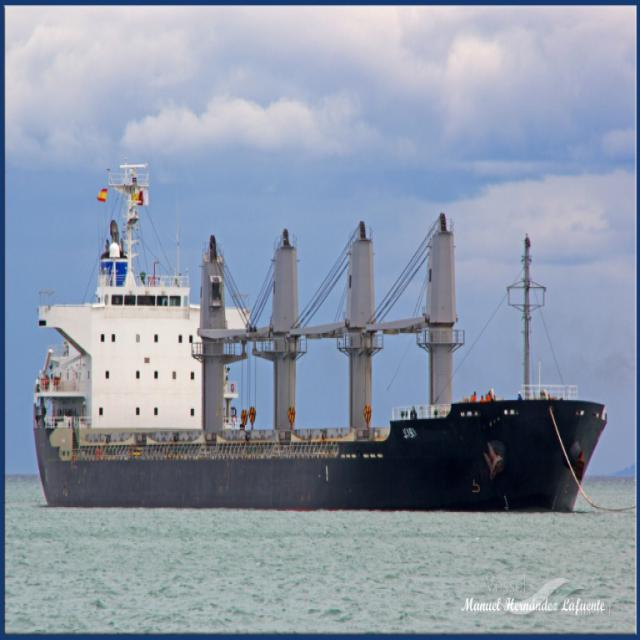OCR: (399, 422, 425, 444)
